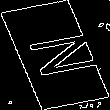N_E: (10, 29, 100, 81)
